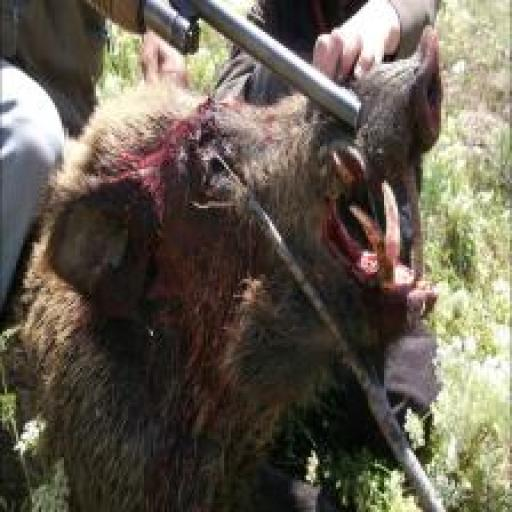Pig: (2, 23, 444, 511)
